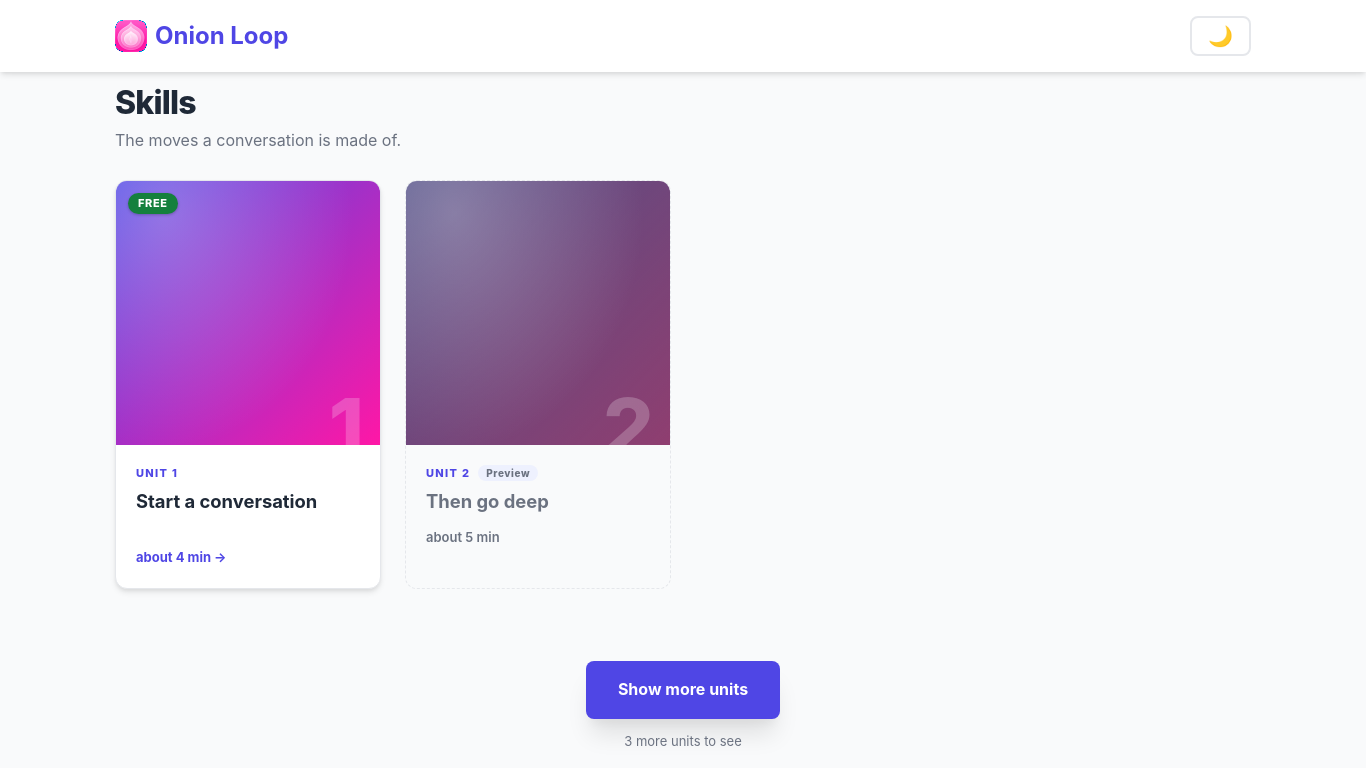
it: submitting a reply shows all three checks, the feedback and a stronger reply
The width and height of the screenshot is (1366, 768).
(page scrolled)
Click the button "UNIT 1 Start a conversation Free about 4 min →". click: coordinates (248, 384)
box: [115,180,381,589]
(page scrolled)
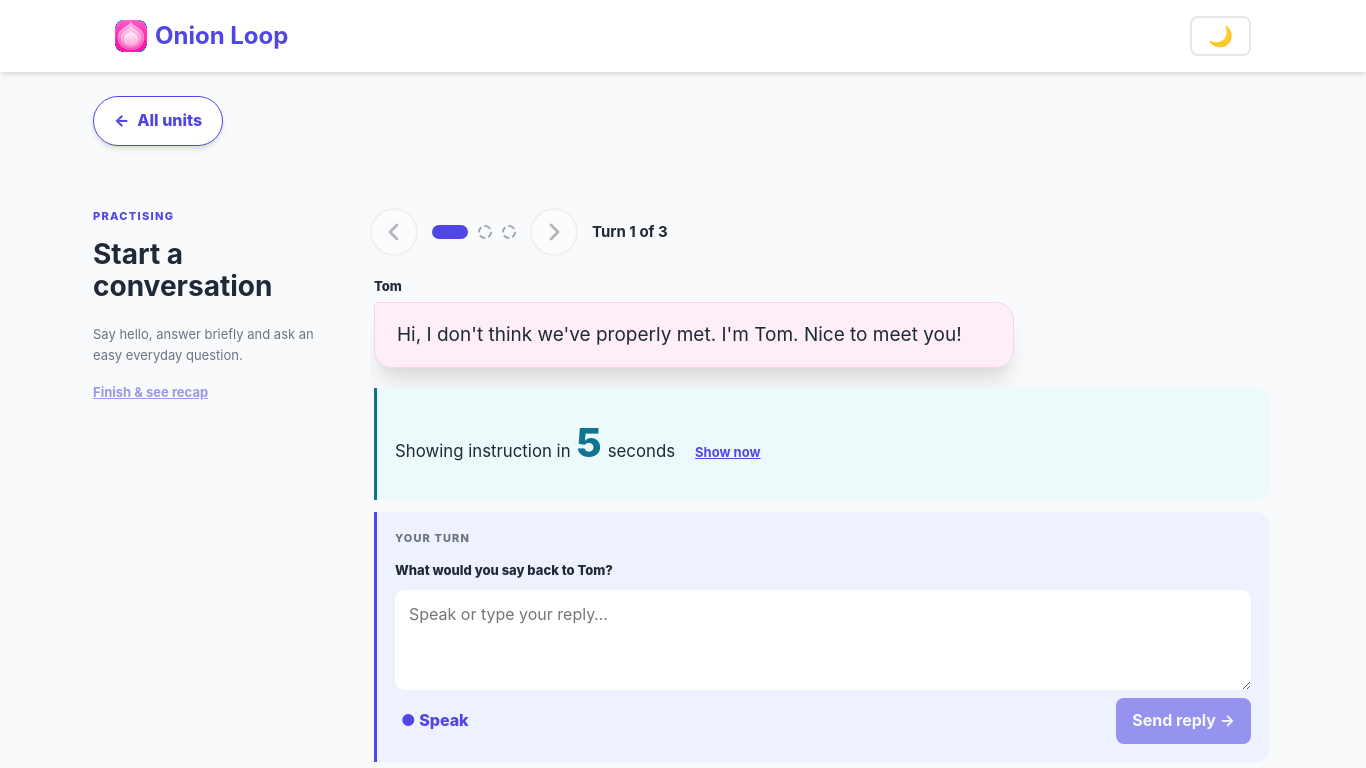
Type "Hi Tom, I am Alex." into the text box. click: coordinates (823, 640)
box: [395,590,1251,690]
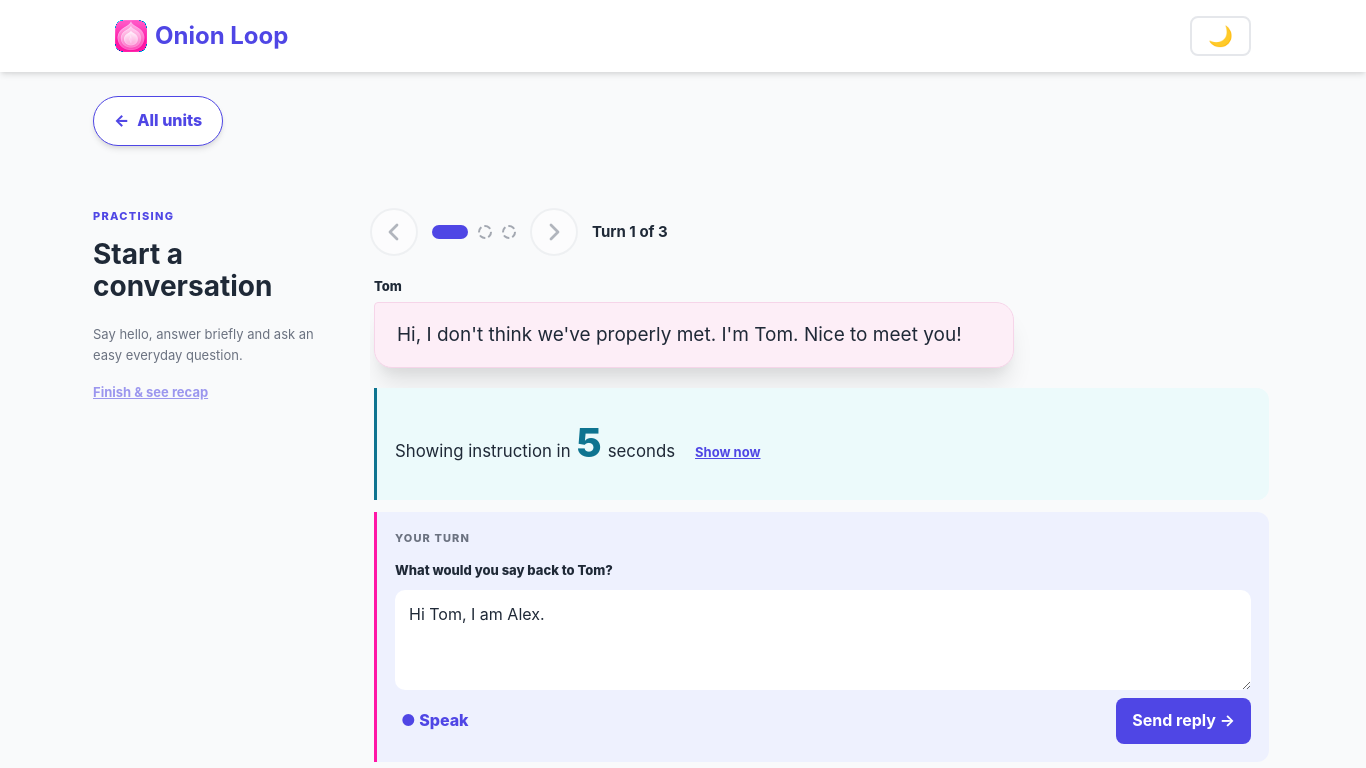
Click the button "Send reply →". click: coordinates (1184, 721)
box: [1116,698,1251,744]
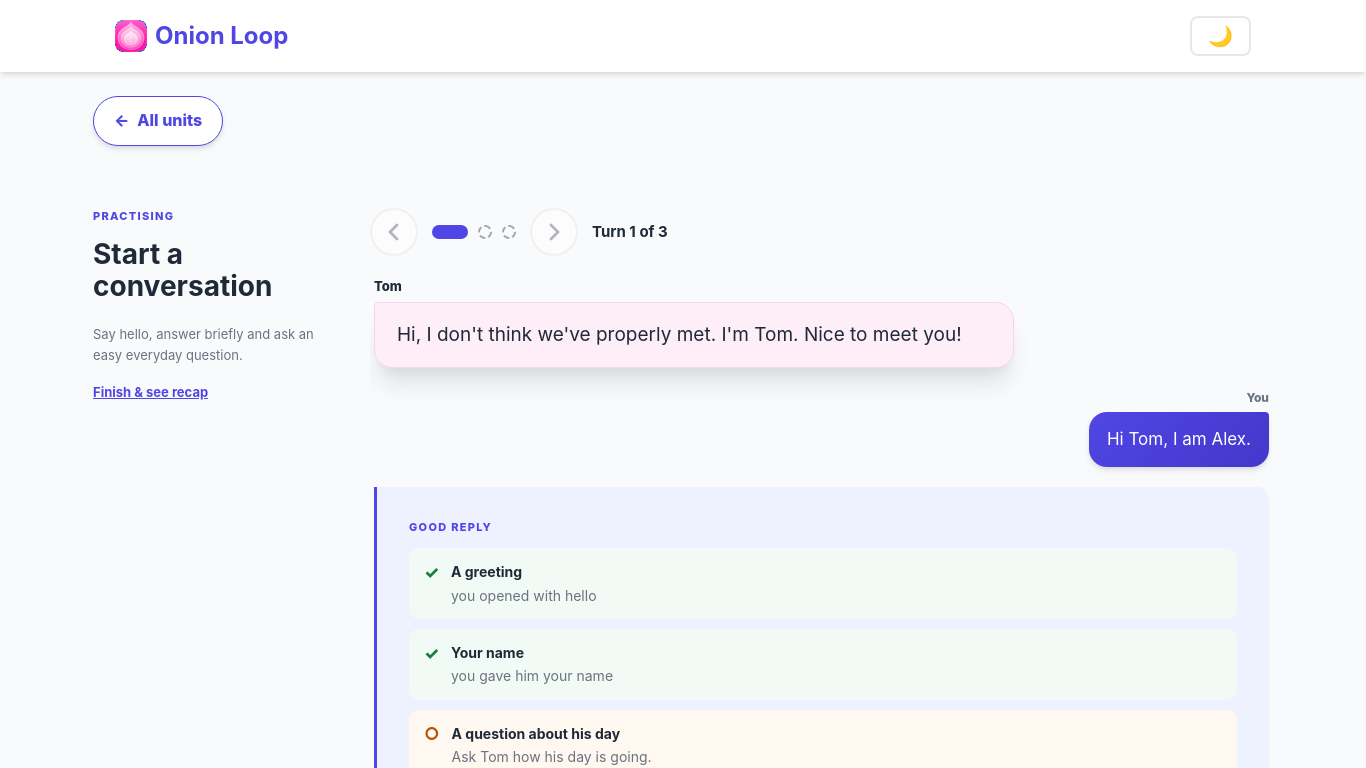
Expected: the list item "✓ A greeting you opened with hello" is shown, [409,548,1237,619]
Expected: the text "Hi Tom, I am Alex." is shown, [1089,412,1269,467]
